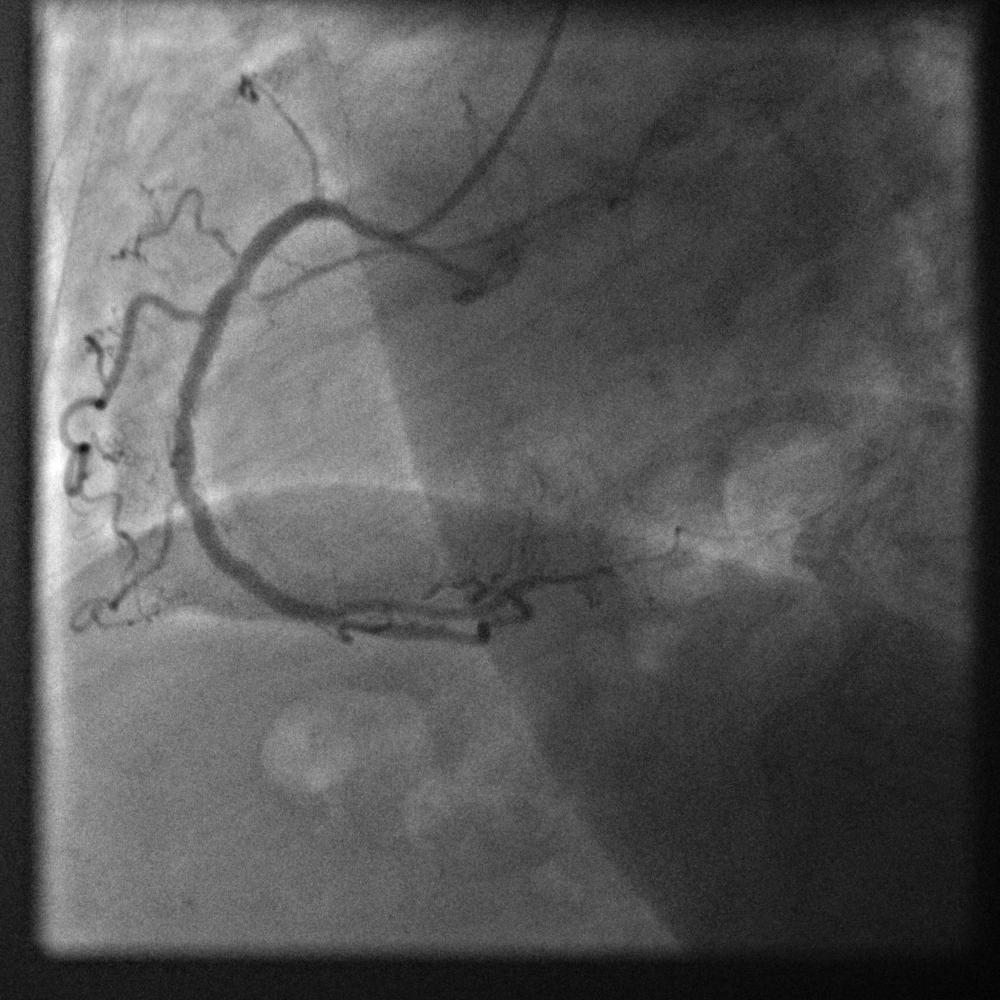Stenosis: (215, 239, 259, 306)
